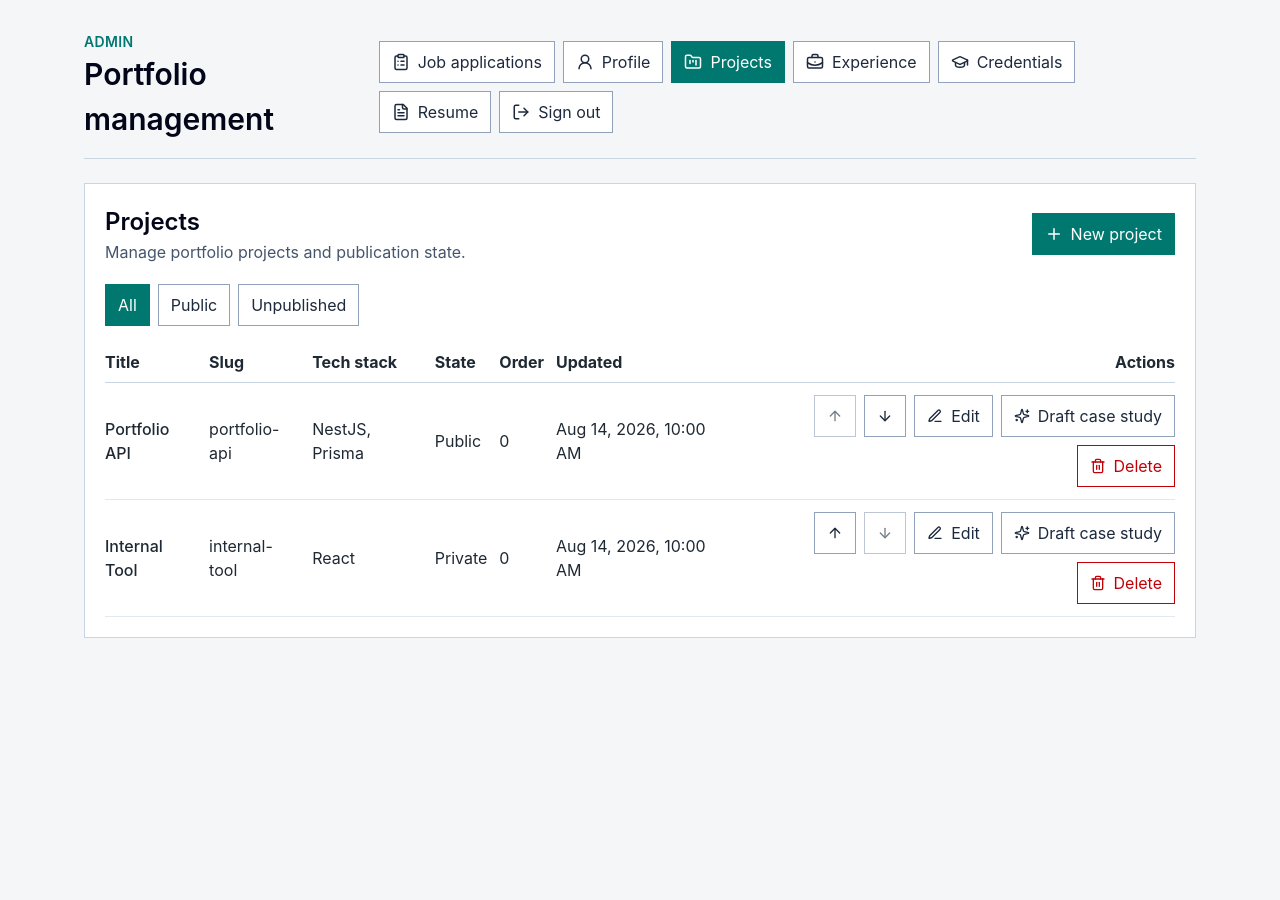
Test case: projects admin list › lists projects, filters by publication state, and opens delete dialog
expect the text "Portfolio API" is shown: met, box [105, 382, 209, 500]
expect the text "Internal Tool" is shown: met, box [105, 500, 209, 616]
Click the button "Unpublished" at (299, 305), box [238, 284, 359, 326]
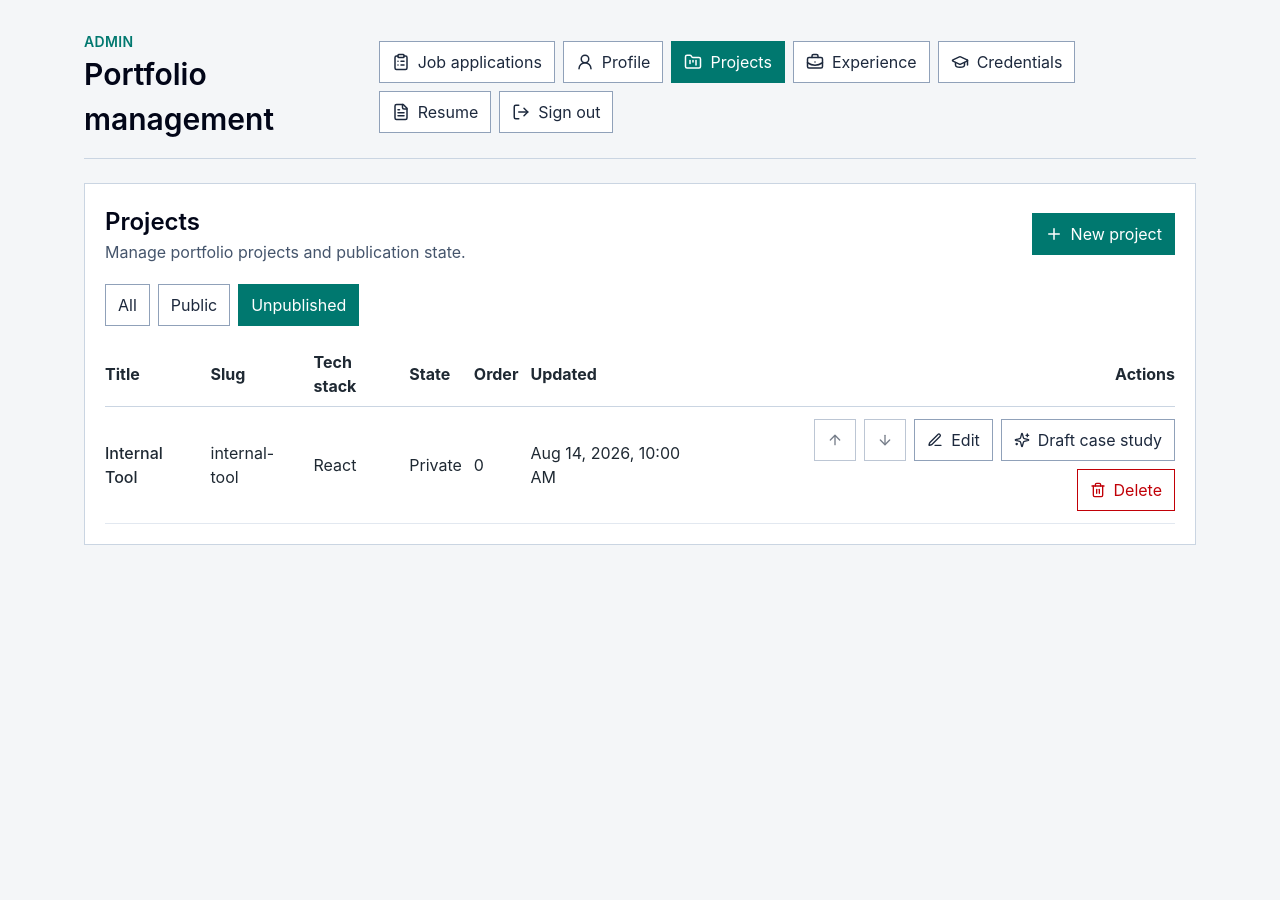
expect the text "Internal Tool" is shown: met, box [105, 406, 210, 524]
expect the text "Portfolio API" is gone: met
Click the button with aria-label "Delete Internal Tool" at (1126, 490), box [1076, 469, 1175, 511]
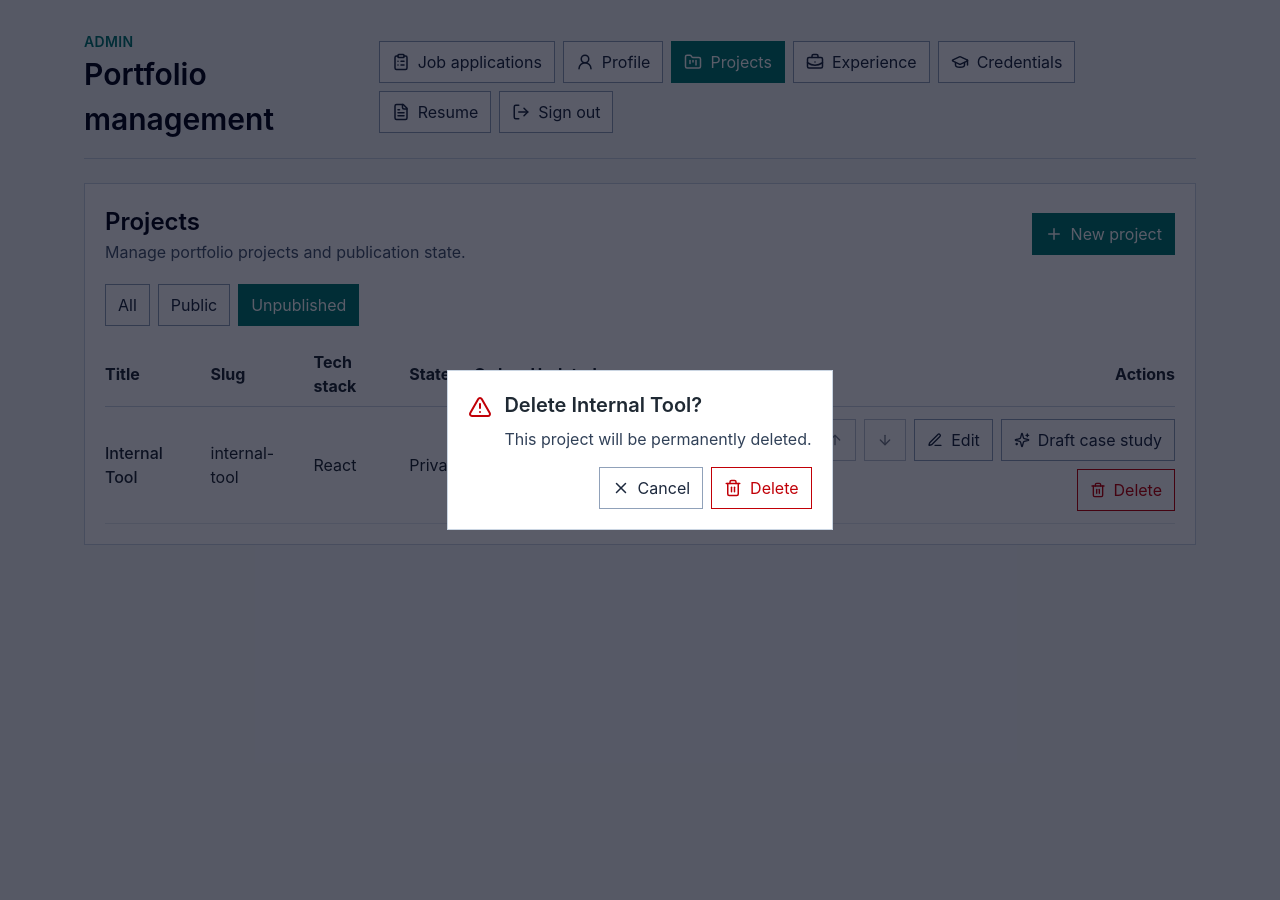
expect the dialog shows "Delete Internal Tool?": met
Click the button "Cancel" at (651, 488), box [599, 467, 703, 509]
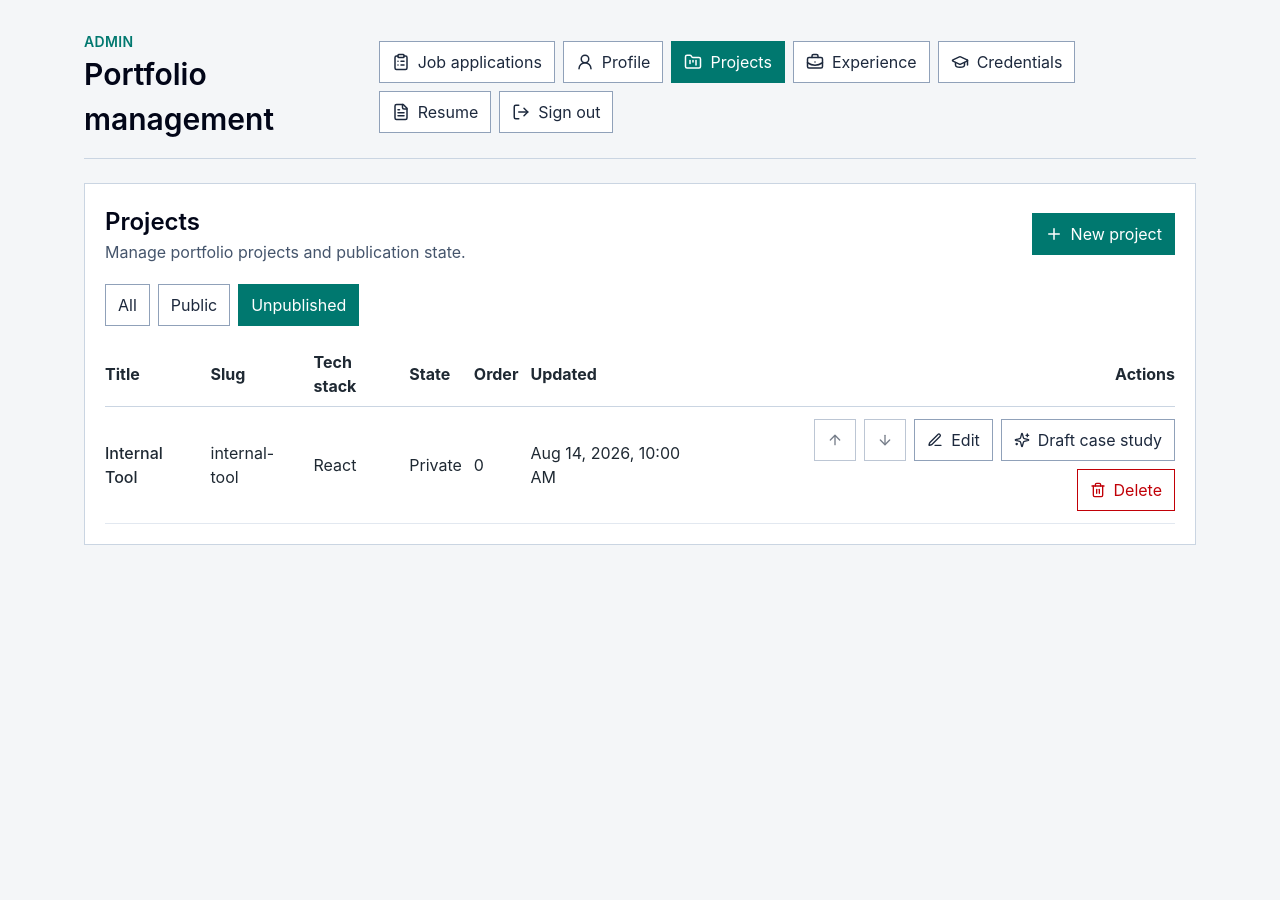
Click the button with aria-label "Delete Internal Tool" at (1126, 490), box [1076, 469, 1175, 511]
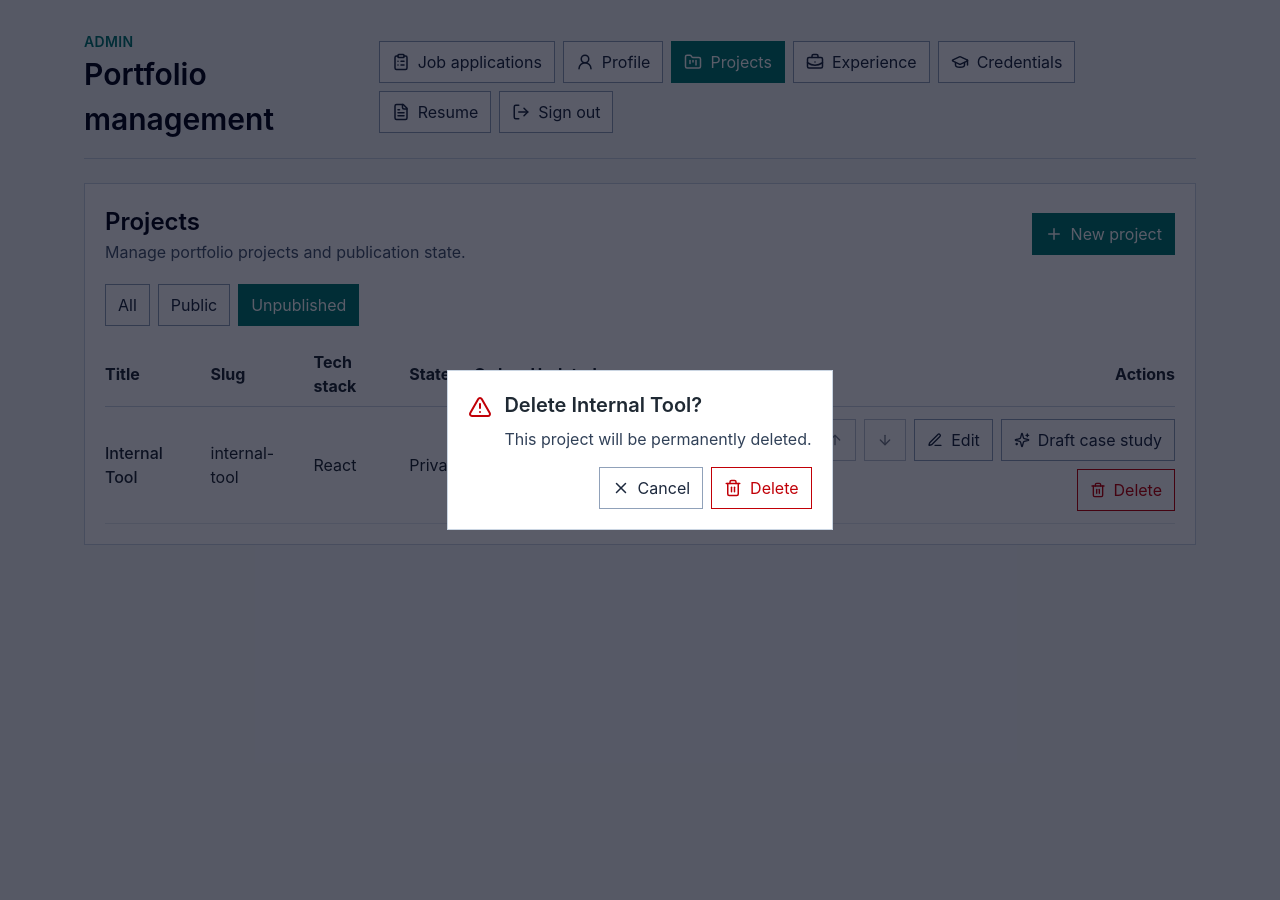
Click the button "Delete" at (761, 488), box [711, 467, 812, 509]
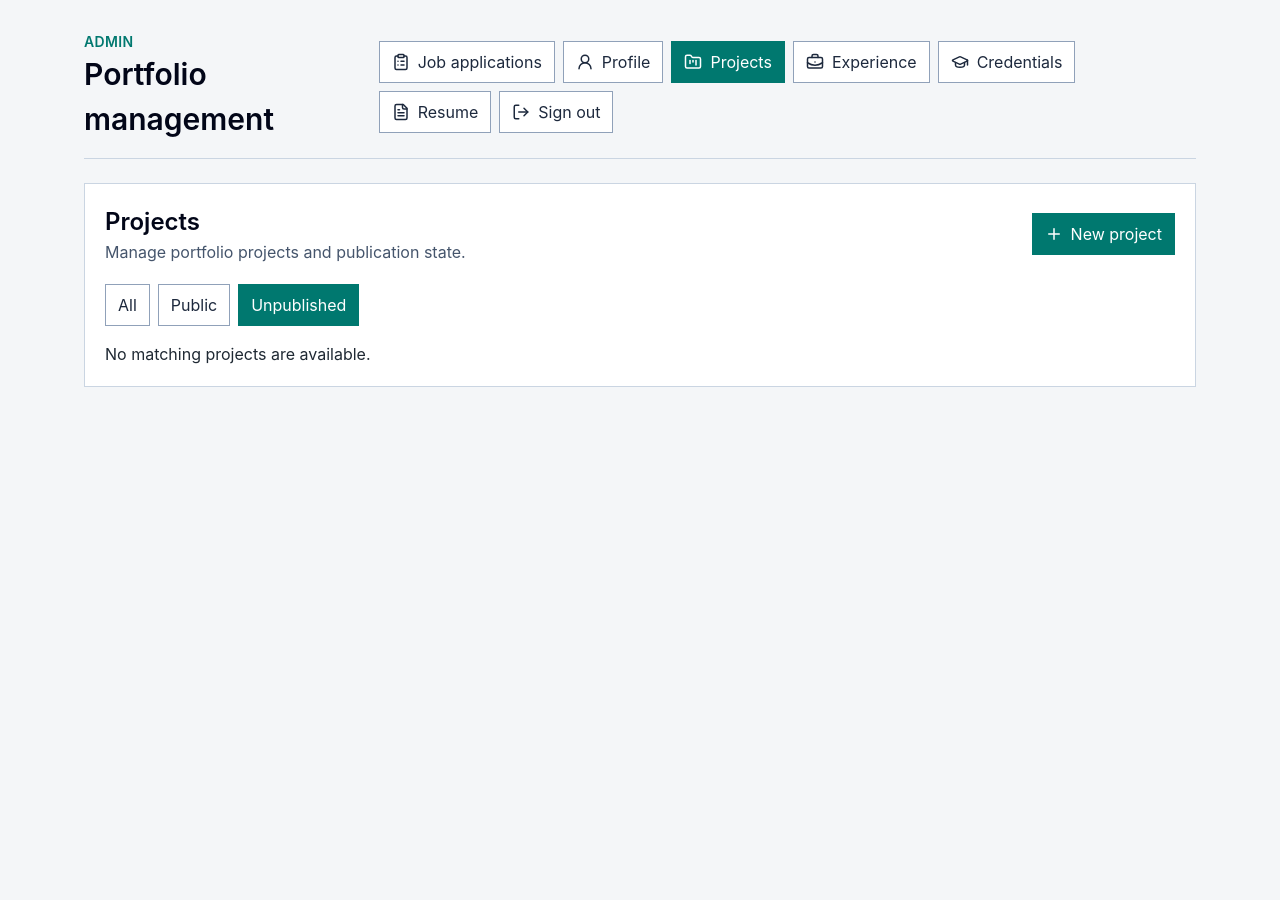
expect the text "Internal Tool" is gone: met
